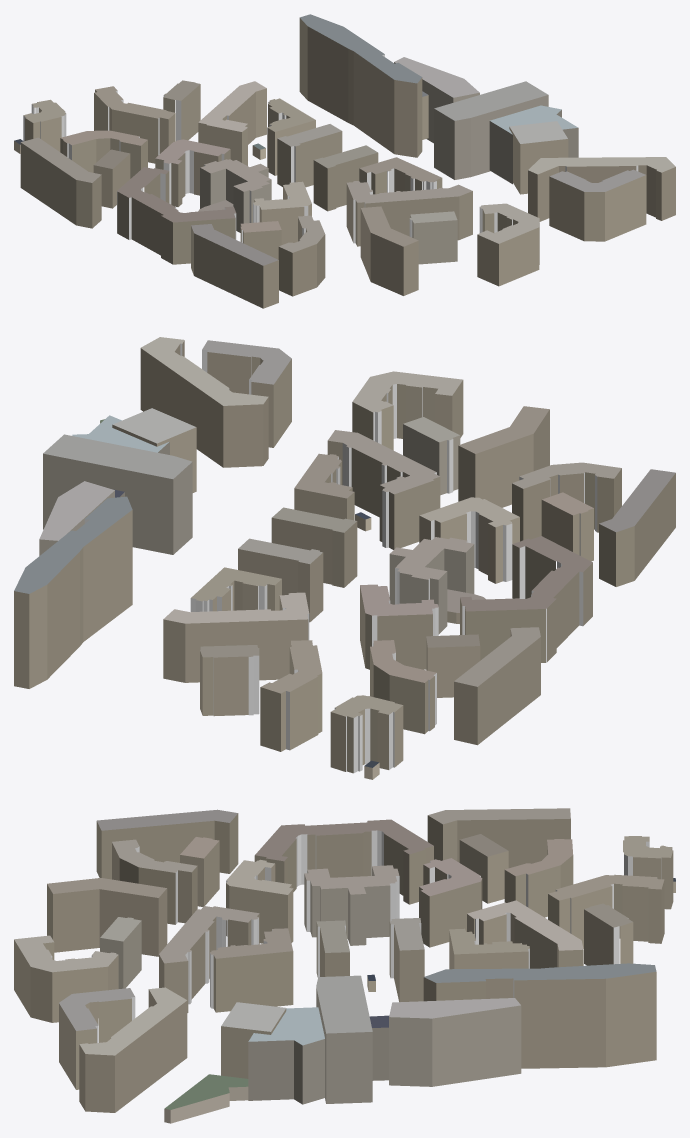
3 renders of one model, top to bottom at view 1: azimuth 30°, elevation 25°; view 2: azimuth 150°, elevation 25°; view 3: azimuth 270°, elevation 25°, orthographic. The views are drawn at different scales.
Visible parts, largest first — view 1: tuile; view 2: tuile; view 3: tuile.
Part boxes in pixels (x1,y1,x2,y2): tuile: (14,14,675,308); tuile: (14,337,675,779); tuile: (14,808,675,1123).
Size of the model in its own units: 255 by 39.15 by 265.
